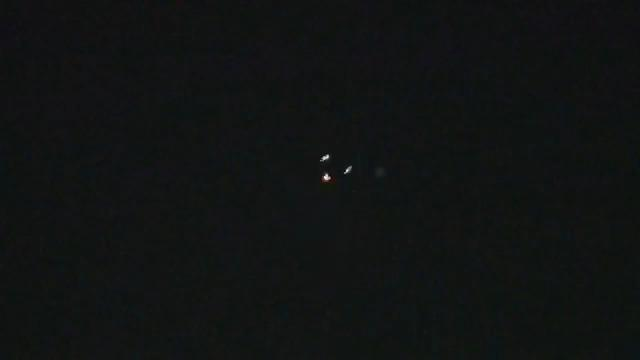Plane: (298, 145, 351, 196)
